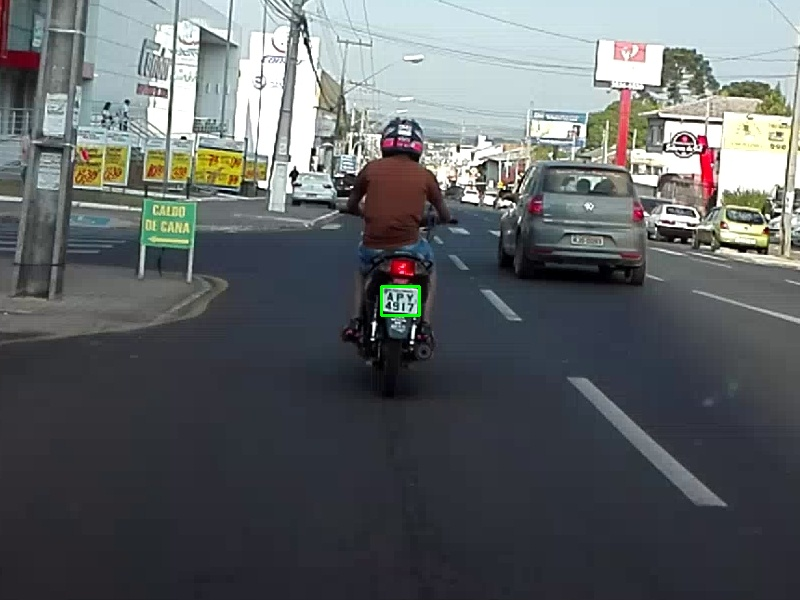placa: (381, 286, 419, 315)
